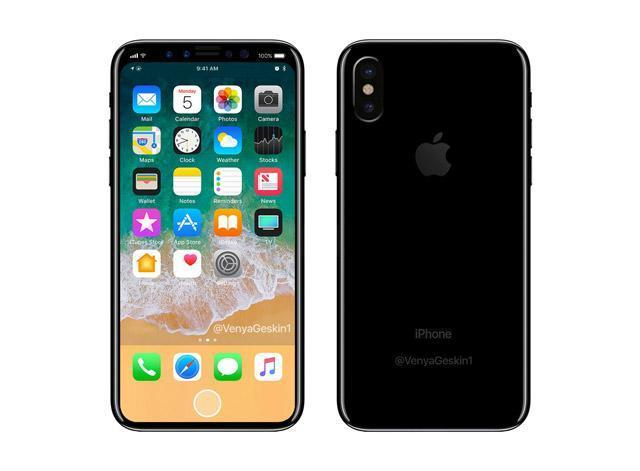phone: (331, 38, 534, 431), (107, 39, 307, 432)
